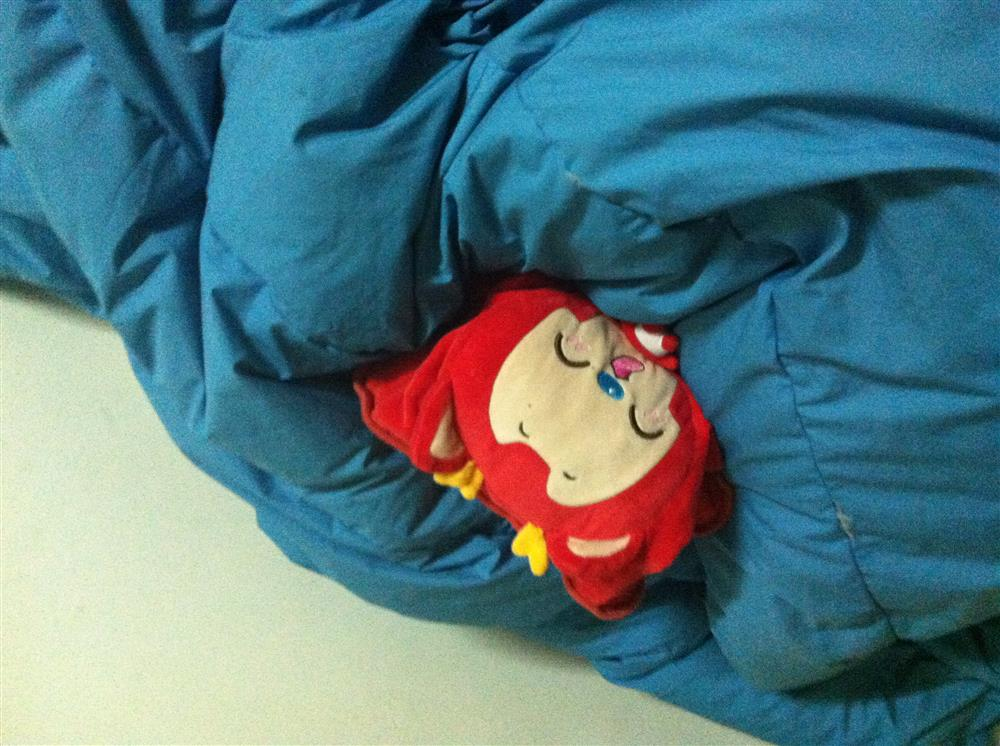Ali: (371, 282, 765, 622)
